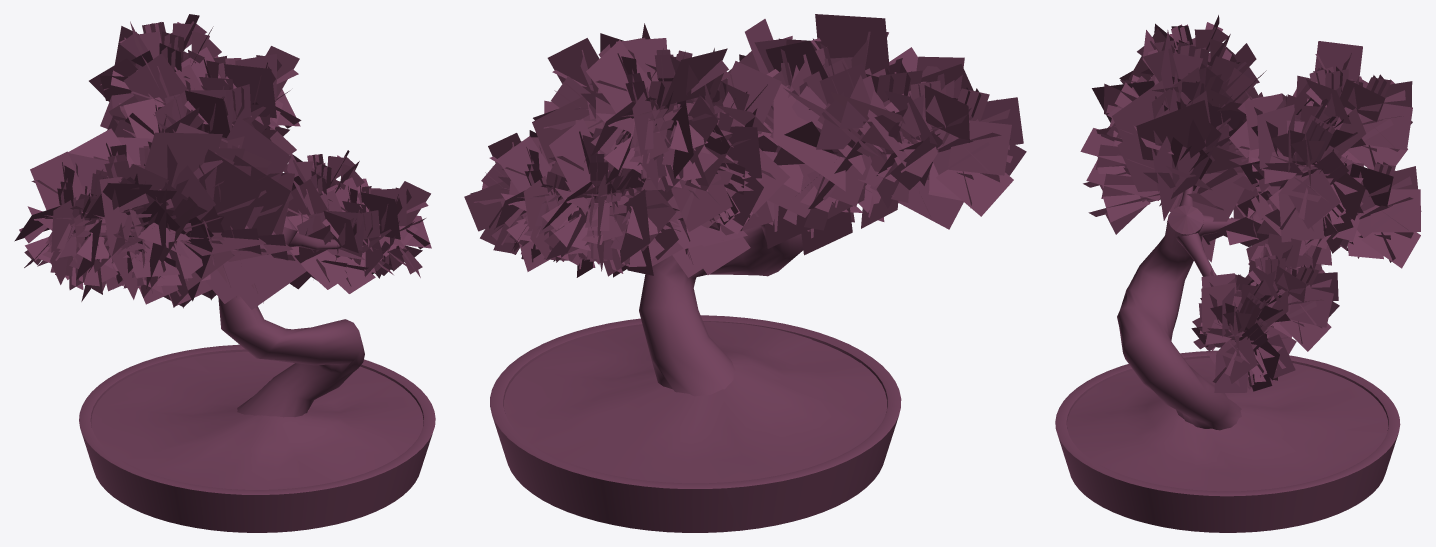
The model's file is Plant.fbx.
3 views of the same model, side by side, from view 1: azimuth 30°, elevation 25°; view 2: azimuth 150°, elevation 25°; view 3: azimuth 270°, elevation 25° (orthographic). The views are drawn at different scales.
Visible parts, largest first — view 1: Concrete_Floor_Cracked; view 2: Concrete_Floor_Cracked; view 3: Concrete_Floor_Cracked.
Part boxes in pixels (<box>): Concrete_Floor_Cracked: <box>14,14,435,532</box>; Concrete_Floor_Cracked: <box>464,14,1026,532</box>; Concrete_Floor_Cracked: <box>1055,15,1421,532</box>.
Size of the model in its own units: 28.68 by 25.57 by 21.64.
